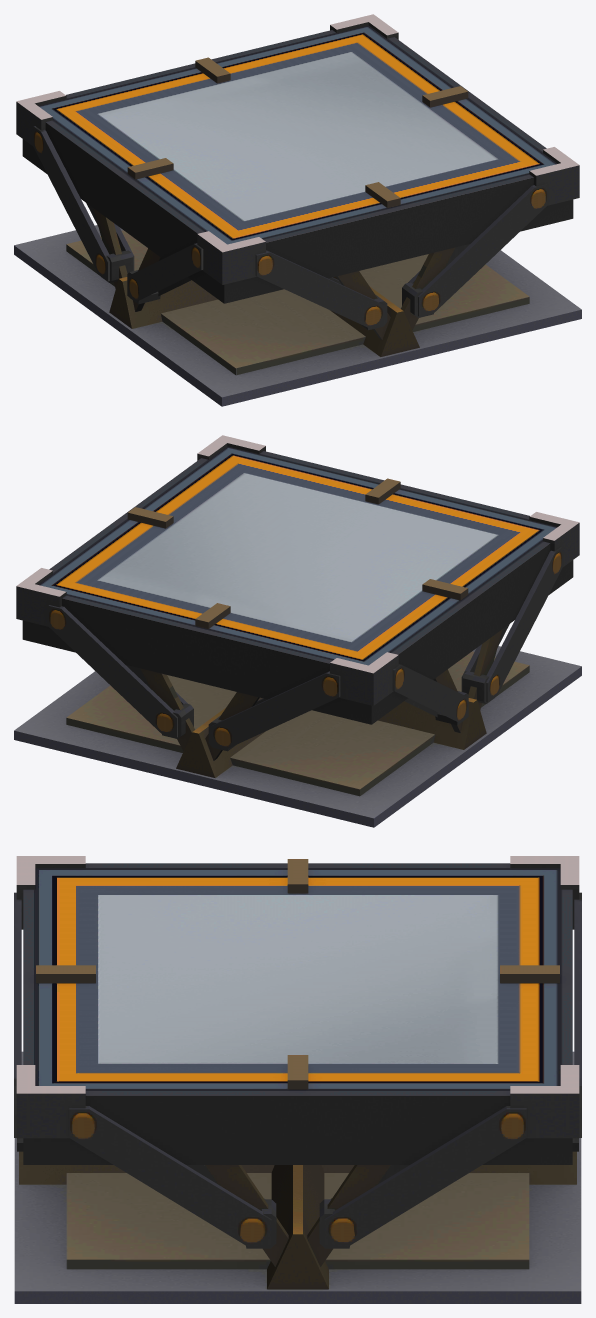
File: trap_207_mufrwl2.fbx
The picture shows the model from 3 angles, top to bottom: view 1: azimuth 30°, elevation 25°; view 2: azimuth 150°, elevation 25°; view 3: azimuth 270°, elevation 25°; orthographic projection. The views are drawn at different scales.
Parts seen in each view (by area): view 1: trap_207_mufrwl2; view 2: trap_207_mufrwl2; view 3: trap_207_mufrwl2.
Boxes of the visible parts, x1,y1,x2,y2 form: trap_207_mufrwl2: [14, 14, 581, 406]; trap_207_mufrwl2: [14, 435, 581, 827]; trap_207_mufrwl2: [14, 856, 581, 1303].
Bounding box in the file's own units: 1 × 0.4175 × 1.
1 material, 1 textured.
